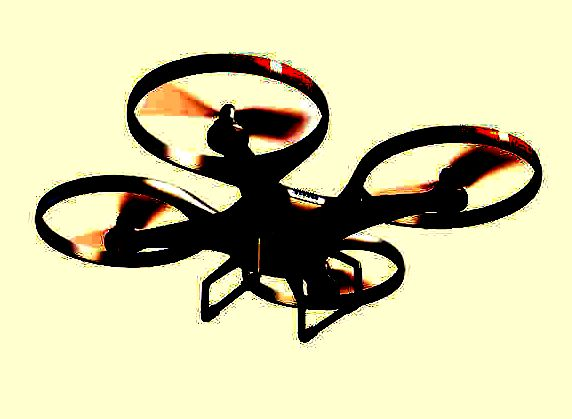Drone: (30, 41, 549, 347)
